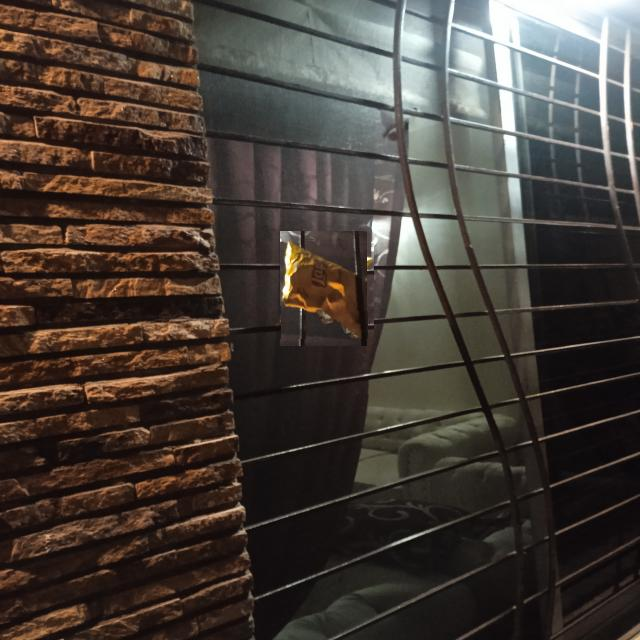Plastic: (274, 238, 374, 339)
